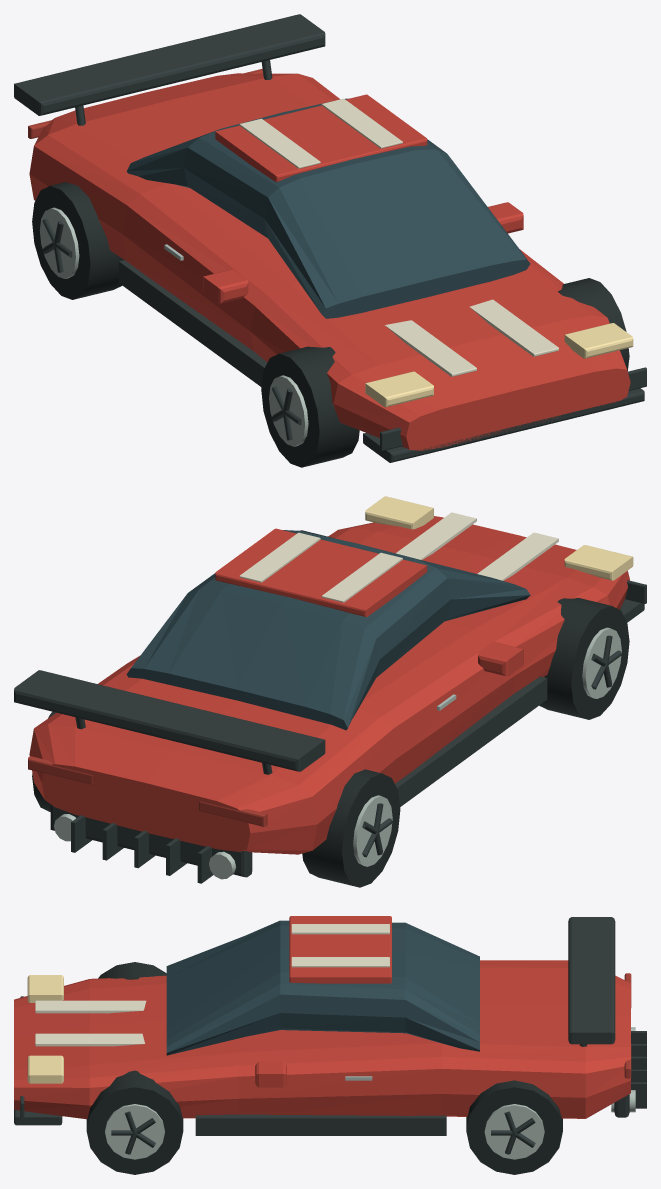
Rendered from sports-car.glb.
The picture shows the model from 3 angles, top to bottom: view 1: azimuth 30°, elevation 25°; view 2: azimuth 150°, elevation 25°; view 3: azimuth 270°, elevation 25°; orthographic projection. The views are drawn at different scales.
Visible parts, largest first — view 1: body_red, canopy_glass, wheels_rubber, rear_wing_dark, roof_red, racing_stripes_cream, side_skirts_dark, headlights_lamp, wheels_chrome, front_splitter_dark, mirrors_red, wheels_dark (+1 smaller); view 2: body_red, canopy_glass, wheels_rubber, rear_wing_dark, roof_red, racing_stripes_cream, side_skirts_dark, headlights_lamp, wheels_chrome, diffuser_fins_dark, diffuser_dark, tail_lights_tail (+3 smaller); view 3: body_red, canopy_glass, wheels_rubber, rear_wing_dark, side_skirts_dark, racing_stripes_cream, roof_red, wheels_chrome, headlights_lamp, wheels_dark, diffuser_fins_dark, mirrors_red (+1 smaller).
Boxes of the visible parts, x1,y1,x2,y2 form: body_red: (29,73,630,450); canopy_glass: (126,98,530,318); wheels_rubber: (32,182,629,467); rear_wing_dark: (14,14,325,115); roof_red: (215,94,427,181); racing_stripes_cream: (239,98,558,376); side_skirts_dark: (119,260,267,386); headlights_lamp: (365,323,633,407); wheels_chrome: (39,207,308,446); front_splitter_dark: (363,388,644,462); mirrors_red: (203,202,523,303); wheels_dark: (42,218,301,440); body_red: (29,516,629,854); canopy_glass: (126,530,530,730); wheels_rubber: (32,530,629,887); rear_wing_dark: (14,670,325,771); roof_red: (215,528,427,616); racing_stripes_cream: (239,512,558,602); side_skirts_dark: (395,676,547,806); headlights_lamp: (365,496,633,580); wheels_chrome: (353,627,621,866); diffuser_fins_dark: (71,815,213,883); diffuser_dark: (50,804,252,877); tail_lights_tail: (28,756,267,826); body_red: (14,960,630,1119); canopy_glass: (166,920,479,1055); wheels_rubber: (86,962,562,1174); rear_wing_dark: (568,917,615,1044); side_skirts_dark: (195,1114,446,1135); racing_stripes_cream: (35,924,389,1046); roof_red: (289,916,391,983); wheels_chrome: (105,1104,544,1159); headlights_lamp: (27,975,63,1083); wheels_dark: (111,1111,535,1154); diffuser_fins_dark: (631,1031,646,1108); mirrors_red: (255,1061,286,1087).
Size of the model in its own units: 1.18 by 0.7002 by 2.4.
